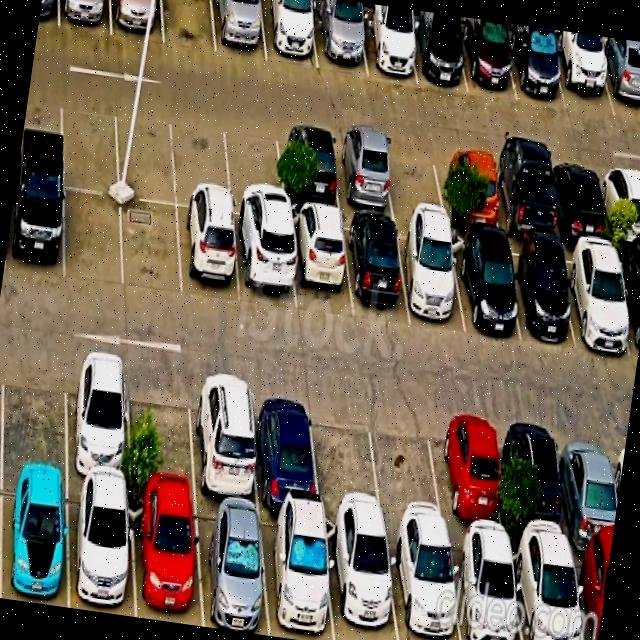empty: (369, 399, 447, 532), (311, 392, 383, 524), (129, 362, 196, 498), (2, 345, 67, 477), (115, 101, 176, 205), (224, 117, 285, 221), (173, 110, 232, 212), (122, 198, 182, 298), (61, 92, 119, 194), (65, 189, 123, 287), (383, 137, 446, 221), (162, 0, 216, 53)
occupied: (194, 500, 270, 636), (130, 491, 203, 627), (434, 406, 506, 541), (260, 510, 334, 640), (191, 372, 259, 507), (251, 381, 320, 513), (0, 474, 67, 608), (69, 481, 135, 617), (325, 518, 398, 640), (506, 414, 571, 547), (67, 352, 130, 488), (386, 529, 461, 640), (560, 242, 633, 354), (558, 421, 618, 552), (449, 534, 522, 640), (450, 233, 521, 341), (502, 239, 575, 344), (396, 224, 465, 334), (510, 542, 584, 640), (343, 216, 410, 322), (289, 209, 352, 318), (177, 207, 240, 304), (5, 177, 64, 280), (233, 217, 296, 312), (491, 152, 557, 240), (437, 145, 501, 231), (277, 125, 341, 211), (333, 131, 395, 216), (551, 35, 615, 117), (549, 158, 610, 241), (507, 26, 566, 109), (459, 20, 517, 100), (408, 17, 467, 92), (358, 10, 417, 84), (260, 0, 318, 68), (313, 3, 367, 74), (571, 548, 611, 640), (596, 40, 640, 120), (599, 163, 640, 244), (212, 0, 266, 61), (615, 248, 640, 359), (110, 0, 164, 43), (59, 0, 111, 35)
